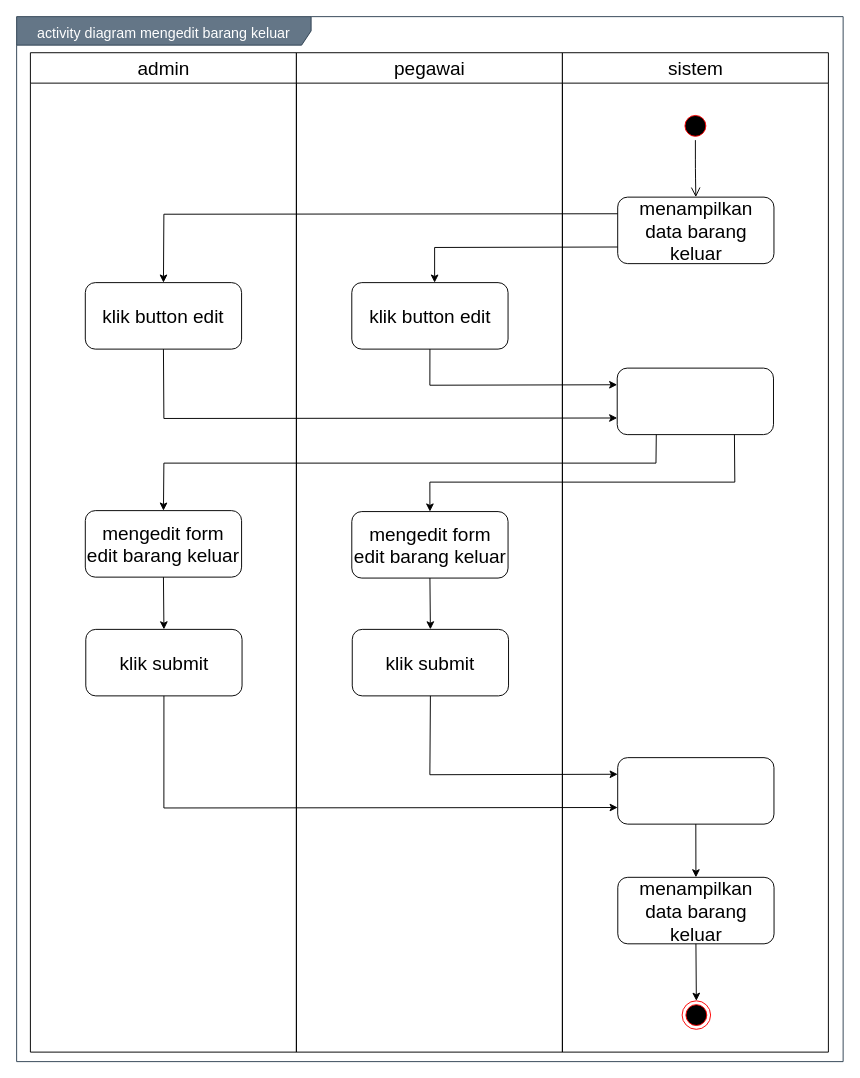
Some shapes in this 860 by 1078 pixel diagram are drawn without their labels. Here are the shapes that lost their labels. From the top down, the centre of each, then its label:
At (x=694, y=401): "menampilkan form edit barang keluar".
At (x=695, y=790): "menyimpan ke database".
